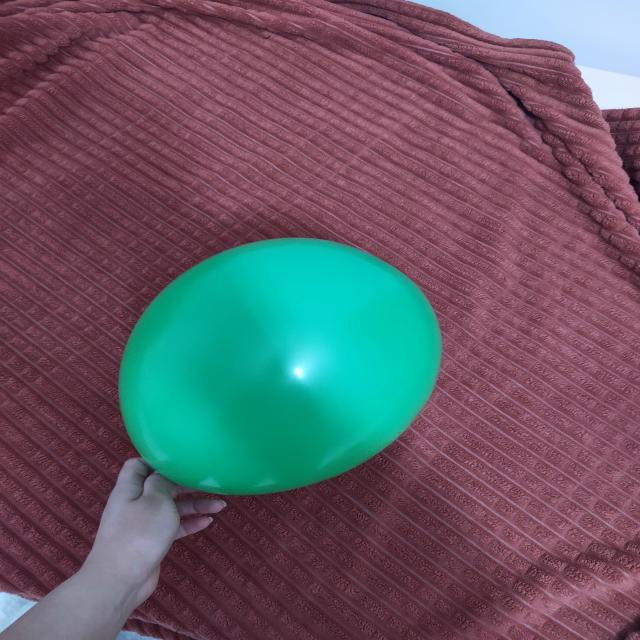green: (119, 237, 441, 498)
